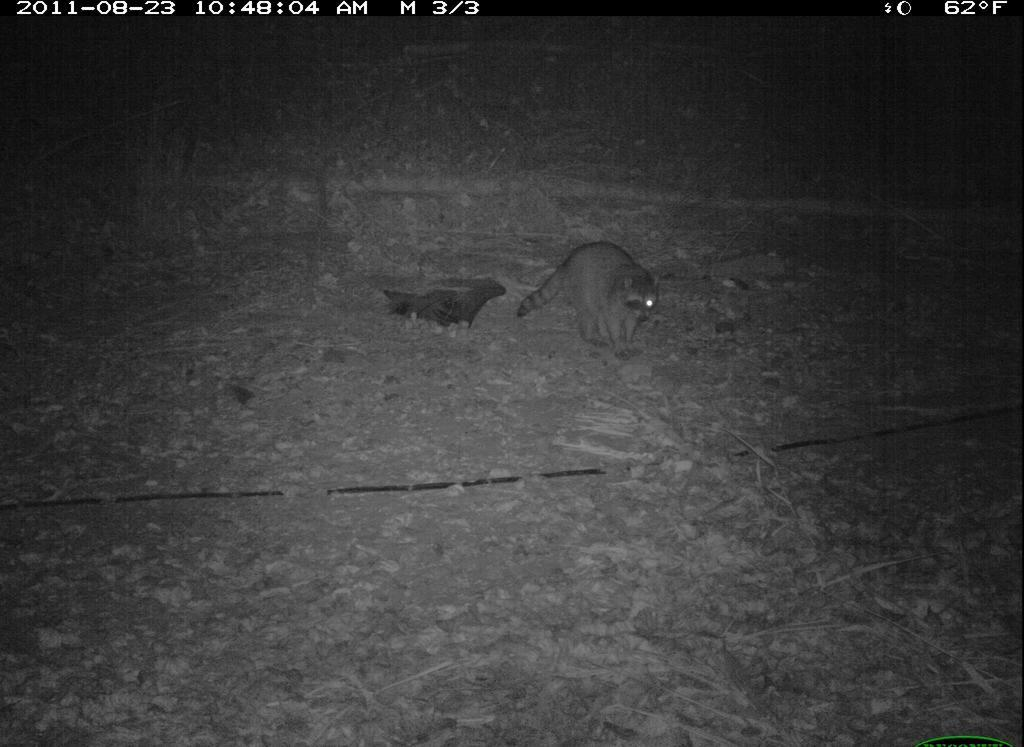raccoon: (518, 236, 678, 378)
